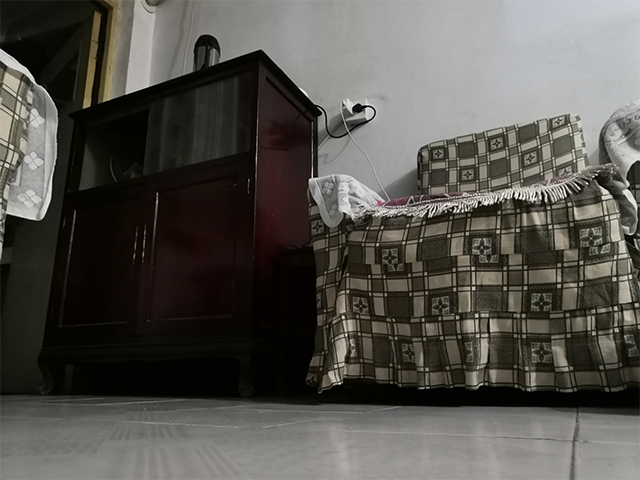cabinet: (33, 47, 325, 398)
sofa: (306, 100, 640, 404)
